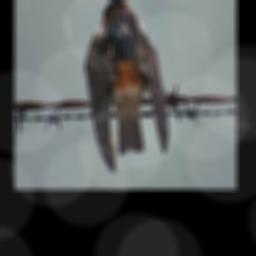Swallow: (83, 0, 170, 173)
